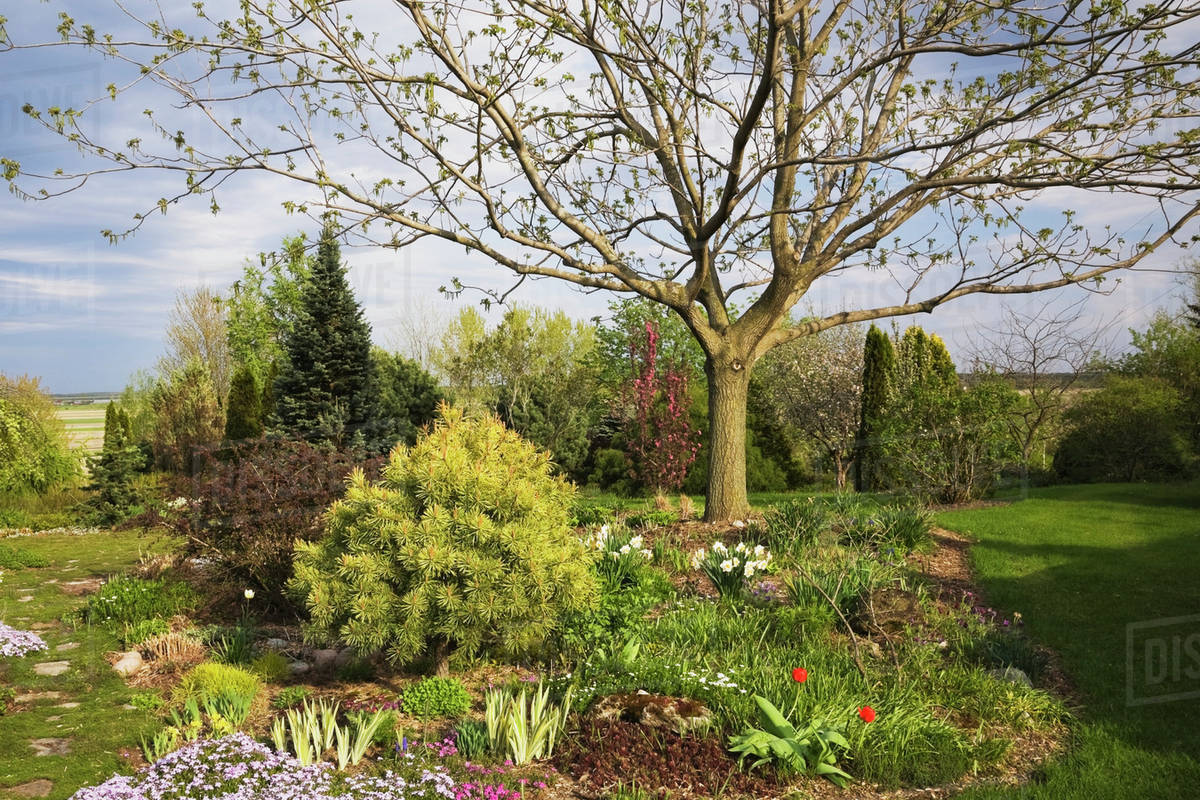bush: (295, 405, 599, 664)
tree: (3, 3, 1200, 502)
